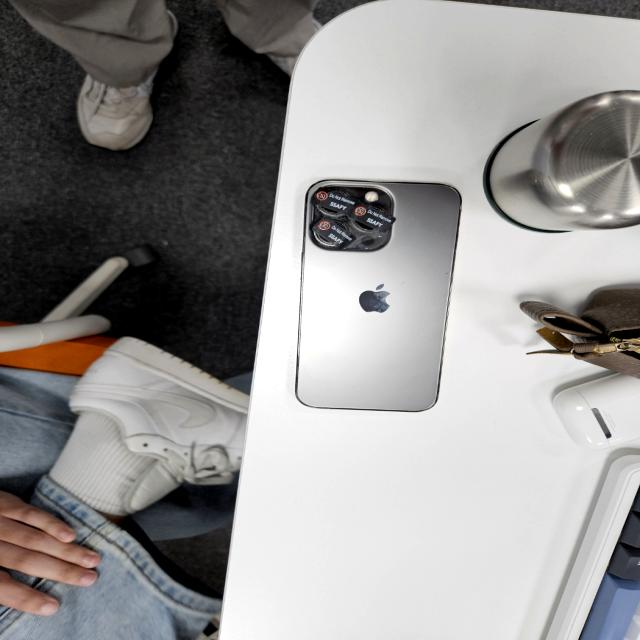phone: (295, 178, 463, 412)
sticker: (311, 217, 355, 249), (310, 188, 356, 215), (350, 204, 394, 229)
